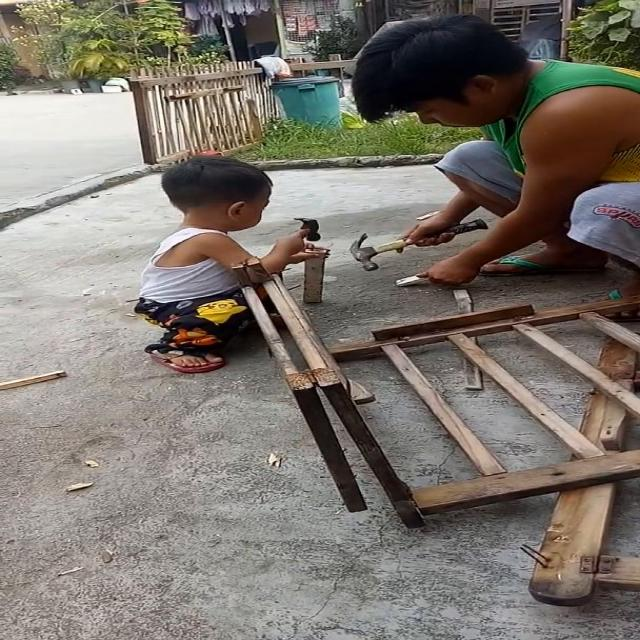hammer: (349, 217, 488, 272), (290, 216, 322, 243)
